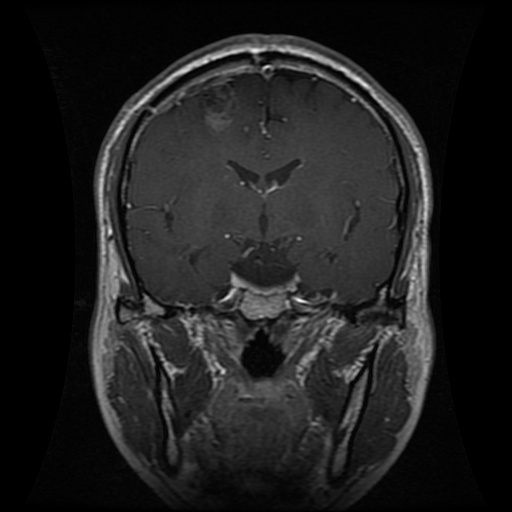glioma: (200, 77, 241, 135)
